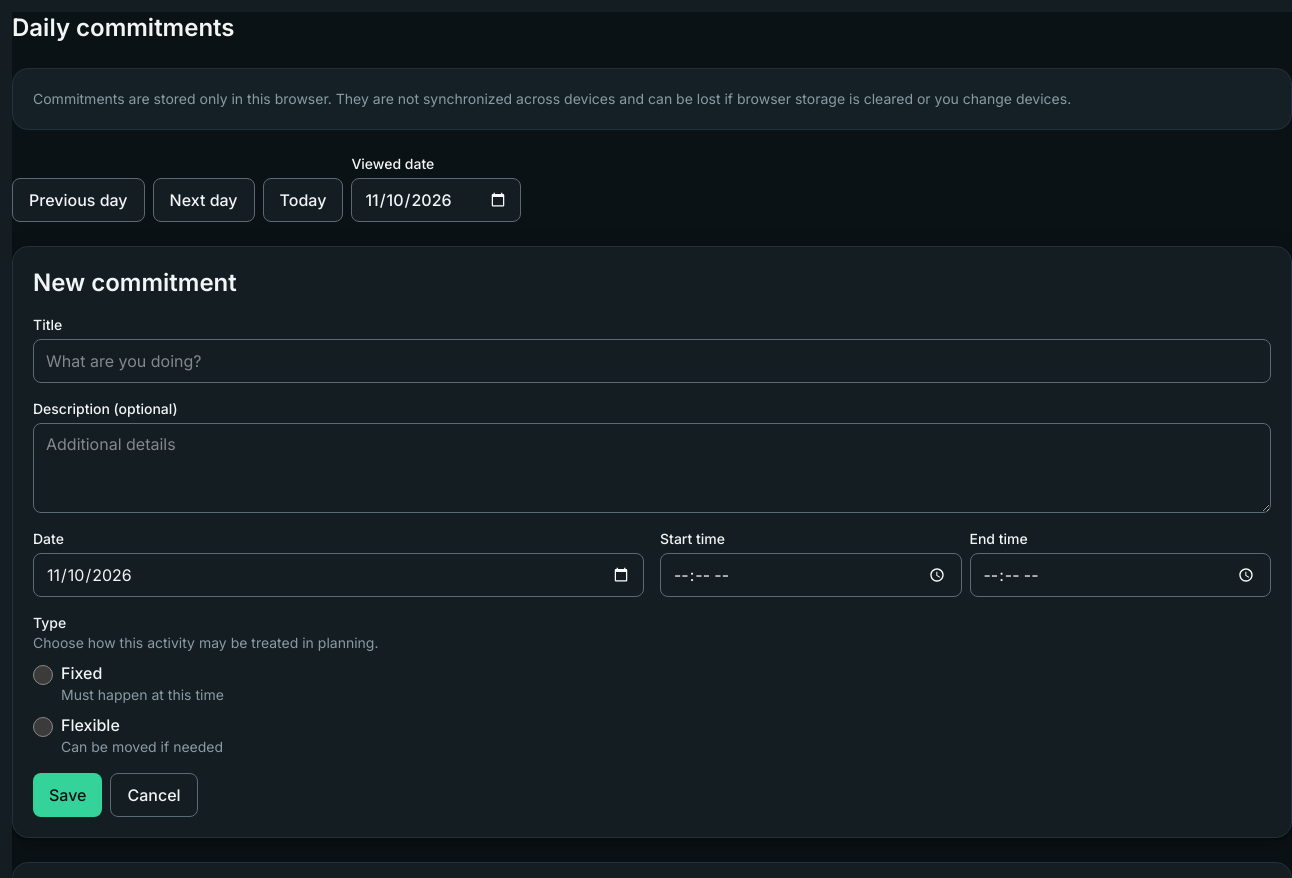
it: multi-tab protection › blocks saves after newer data is detected and offers reload
Type "Blocked save" into the field labelled "Title" at (652, 361), box [33,339,1271,383]
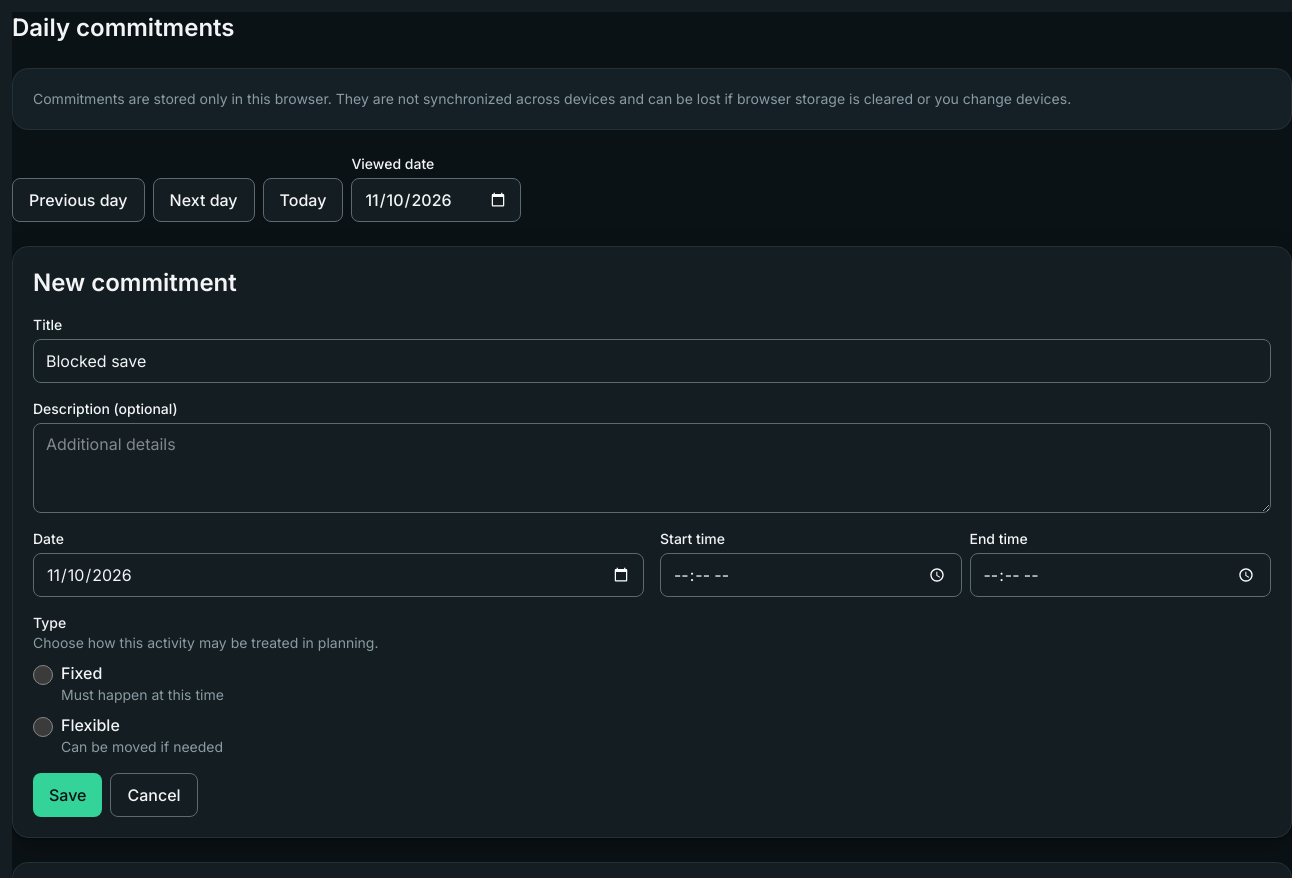
Type "11:00" into the time field labelled "Start time" at (811, 575), box [660,553,962,597]
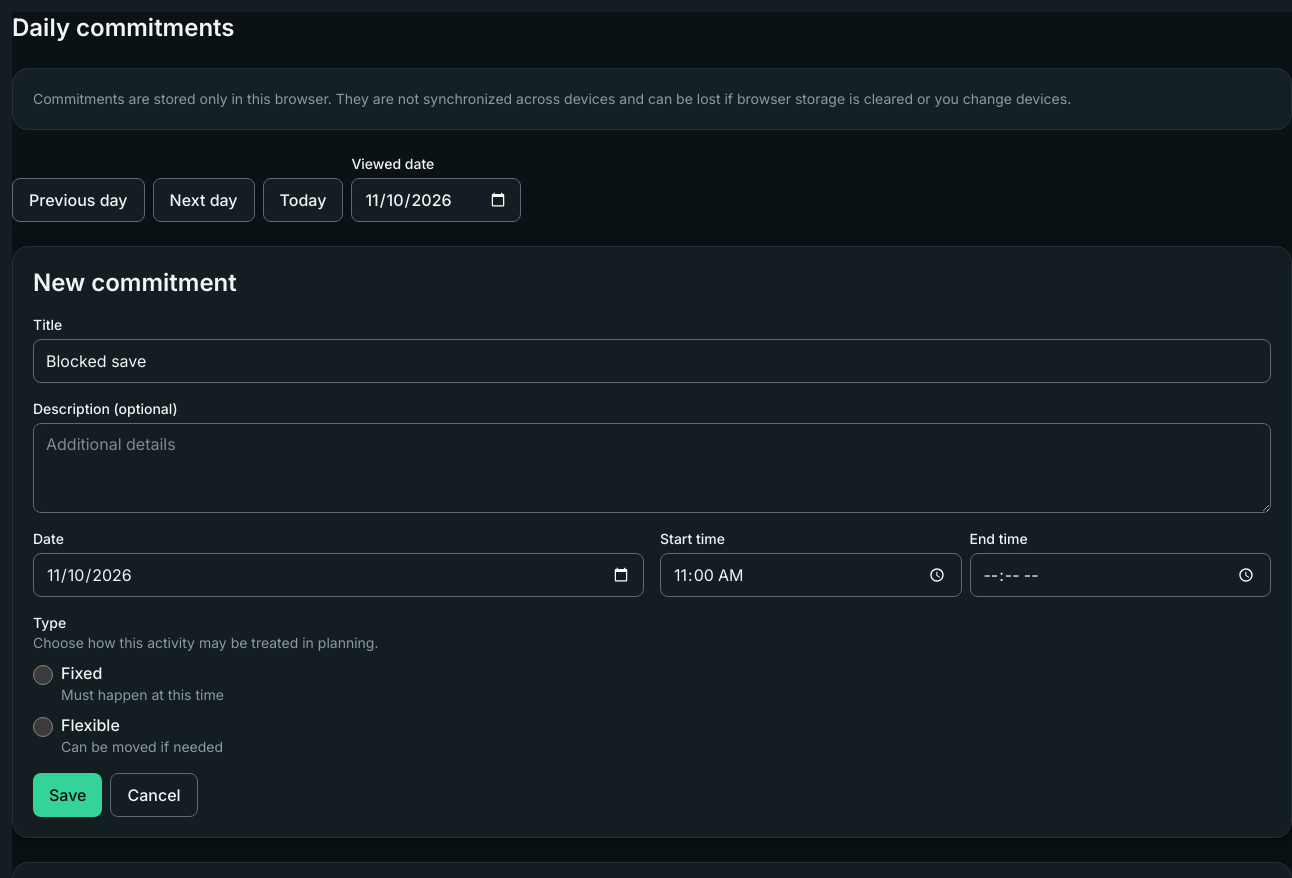
Type "12:00" into the time field labelled "End time" at (1120, 575), box [970,553,1271,597]
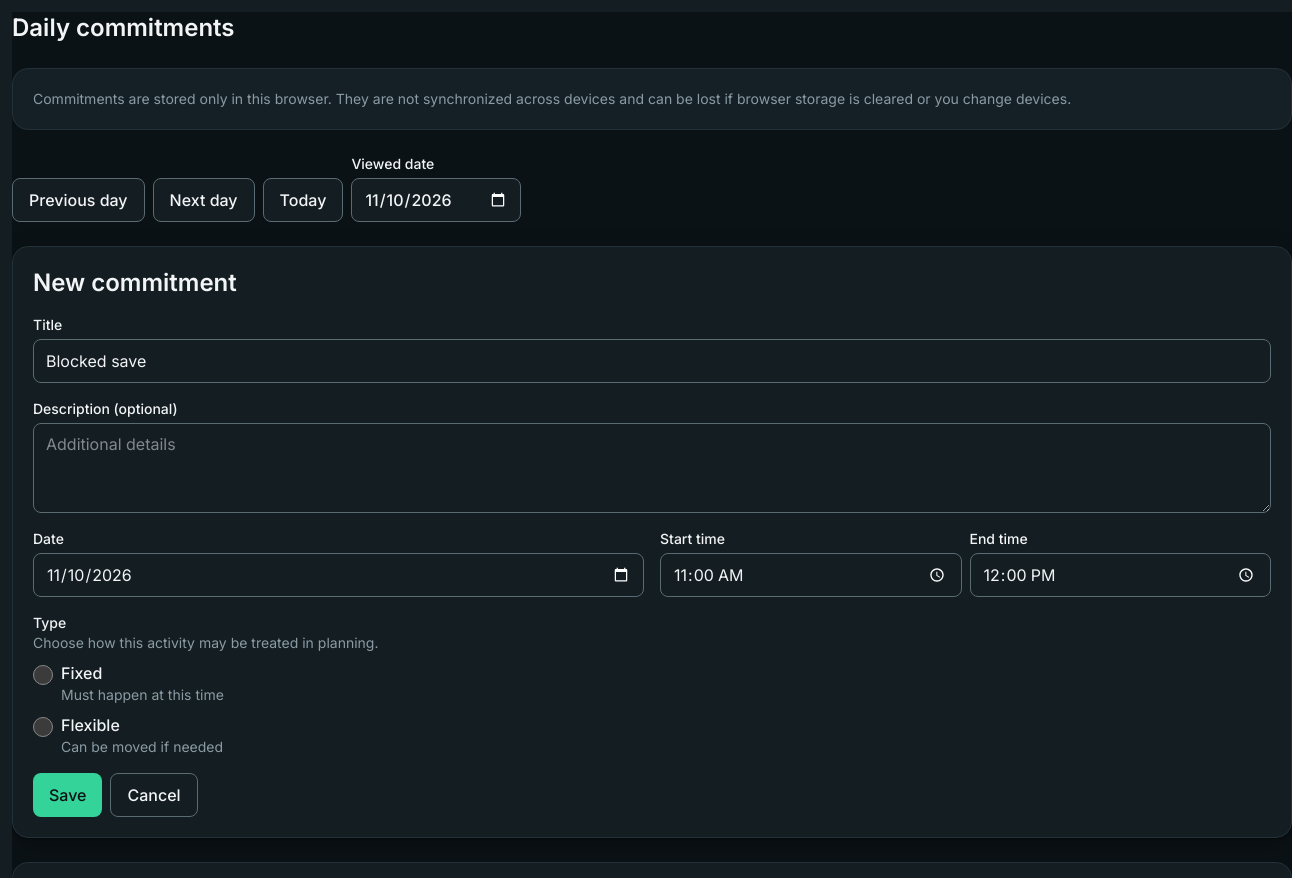
Click the radio button labelled "Fixed Must happen at this time" at (43, 675), box [33,665,53,685]
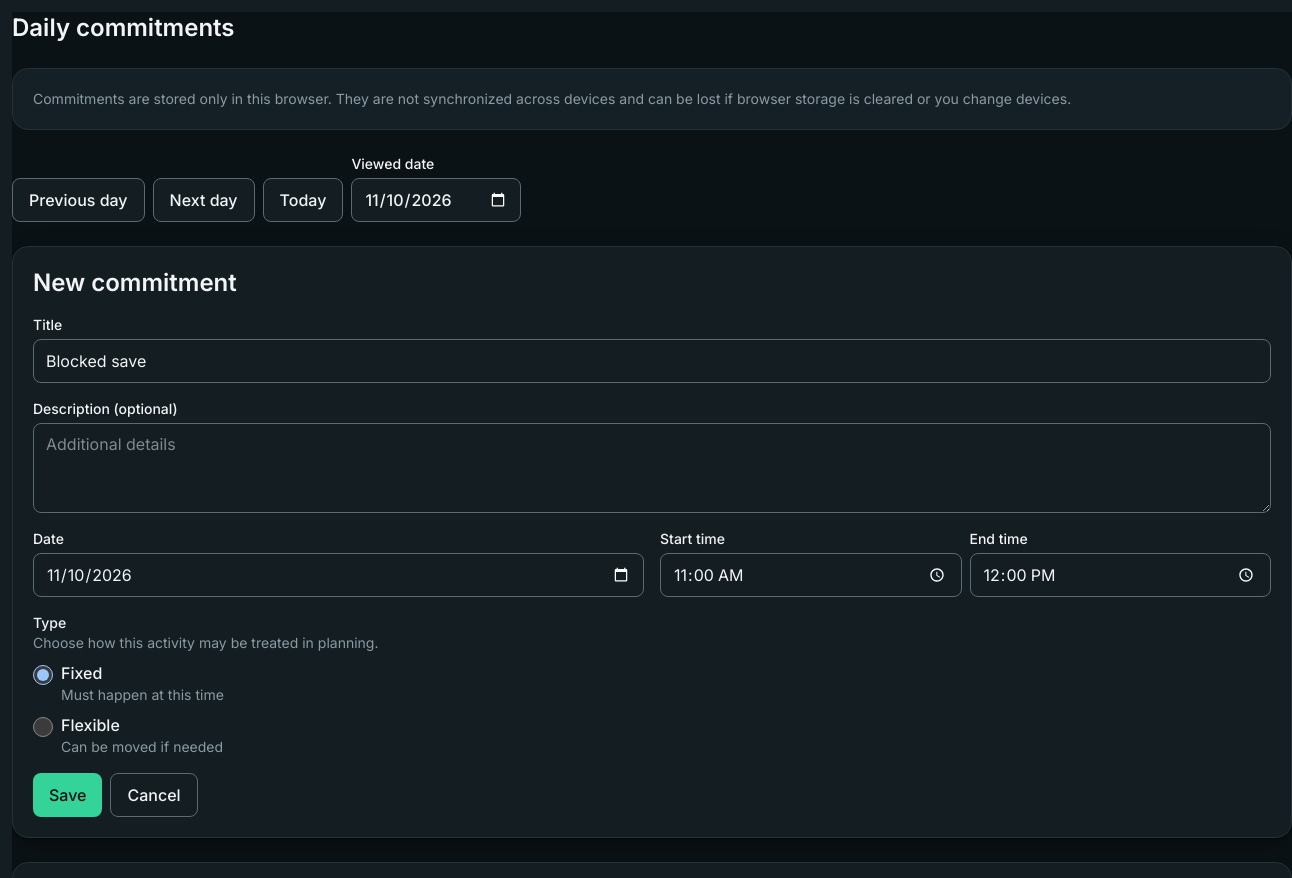
Click the button "Save" at (68, 795), box [33,773,102,817]
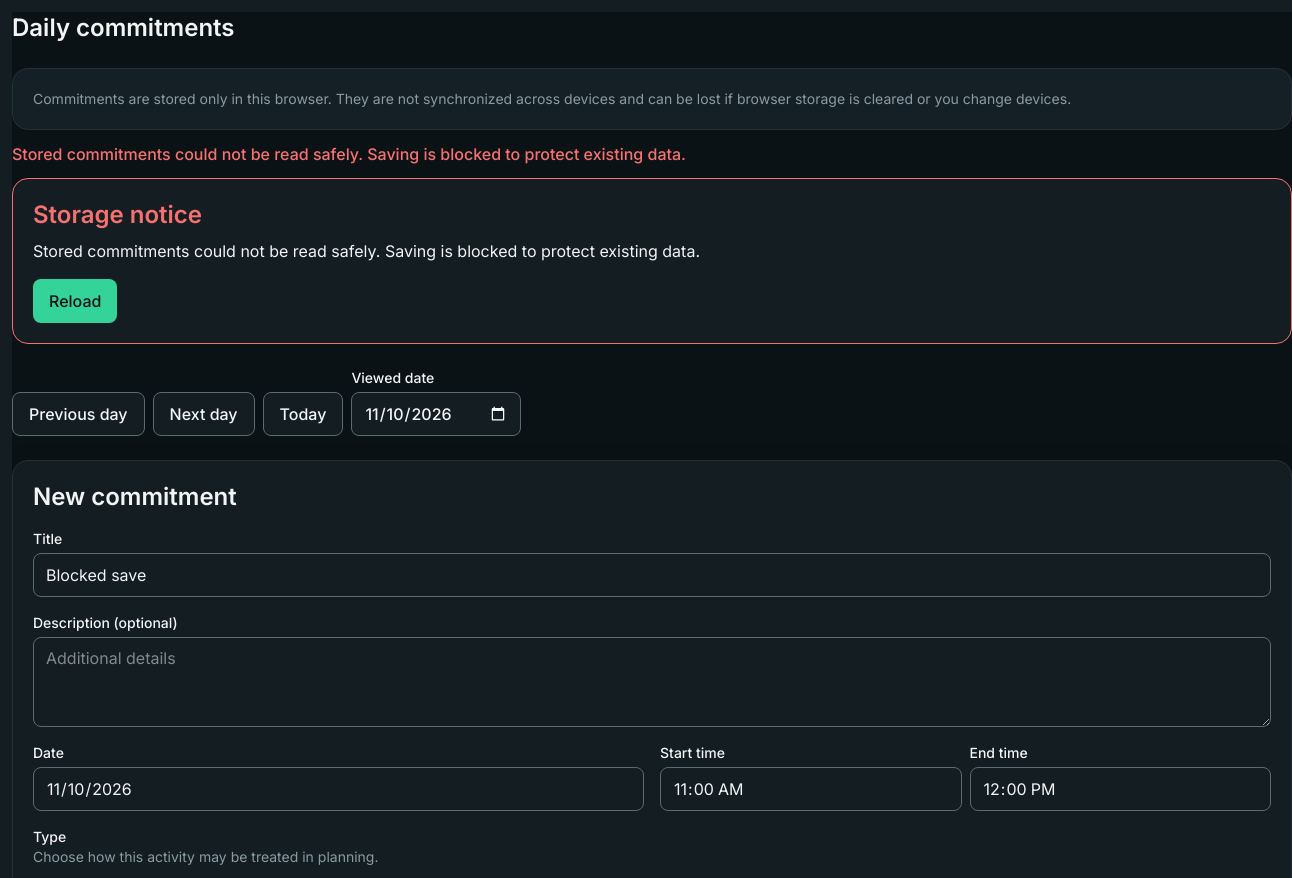
Now the 1st text "Stored commitments could not be read safely" is shown, box [12,144,686,164]
Now the button "Reload" is shown, box [33,279,117,323]
